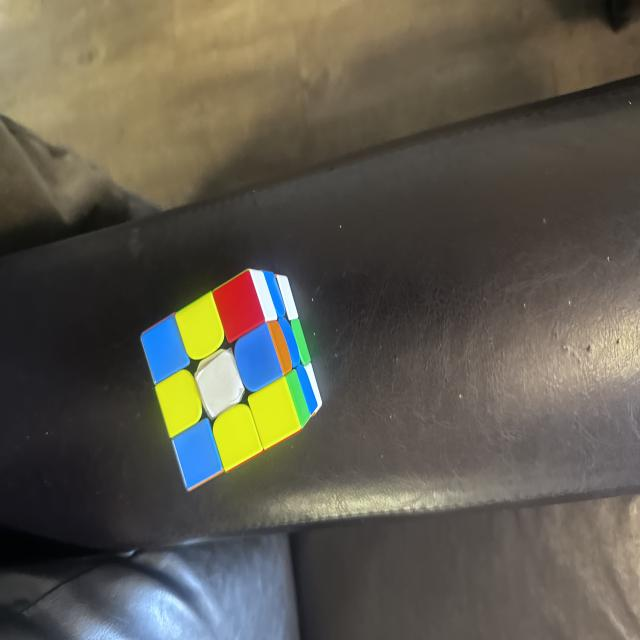sticker: (211, 268, 267, 345), (247, 375, 302, 450), (192, 344, 246, 420), (172, 417, 224, 491), (233, 322, 285, 394), (176, 289, 226, 362), (140, 312, 189, 386), (212, 403, 263, 471), (154, 368, 202, 438)
